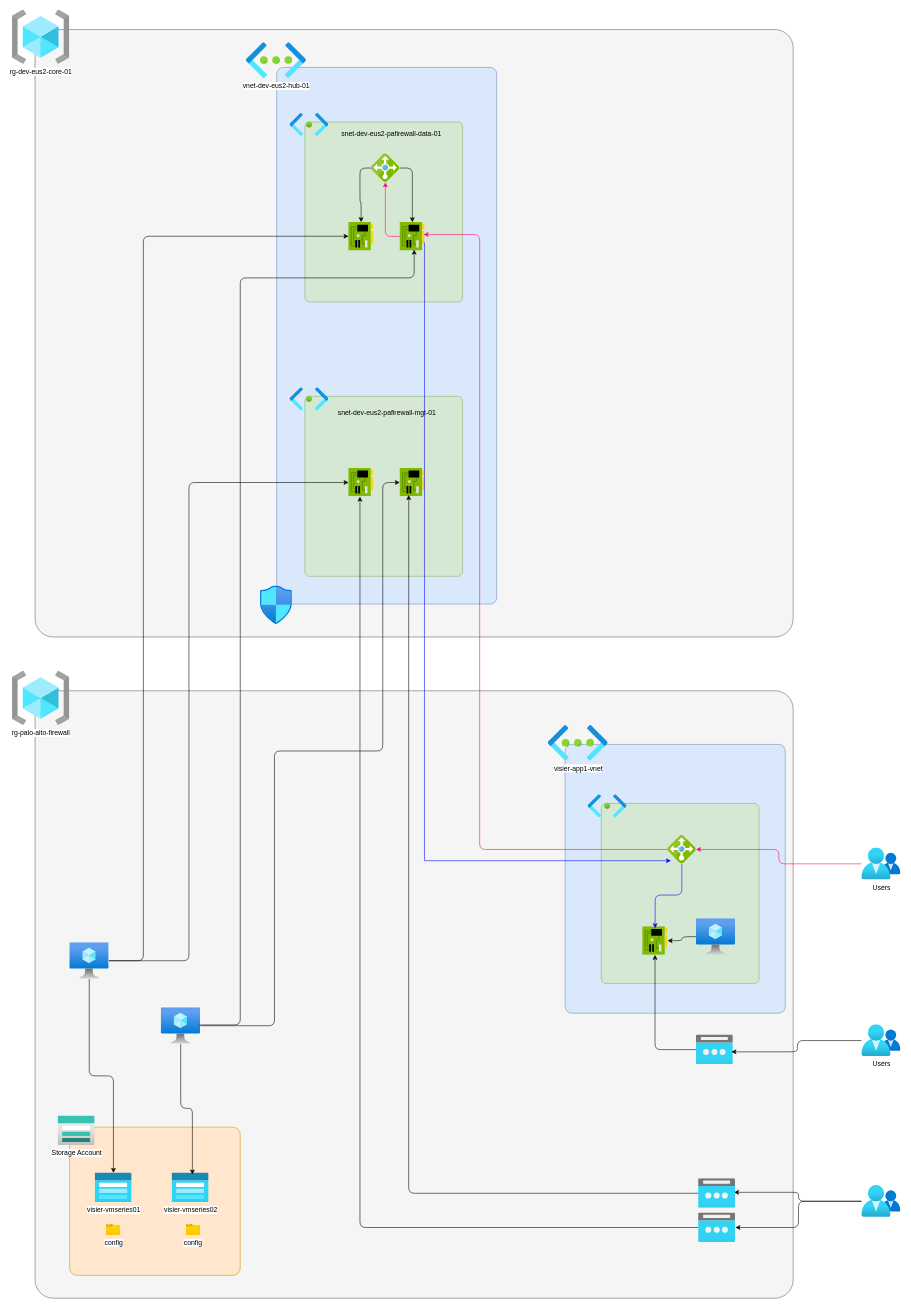
Image size: 911x1308. Some labels were removed from this diagram. The centre of each missing label's shape, as x and y in pixels:
"Admin User" belongs at (x=881, y=1201).
"PA Visier 1" belongs at (x=180, y=1025).
"PA Visier 2" belongs at (x=89, y=960).
"visier-app1-vm01" belongs at (x=715, y=936).
"visier-vmseries-gwlb" belongs at (x=681, y=849).
"visier-vmseries-gwlb GATEWAY" belongs at (x=385, y=168).
